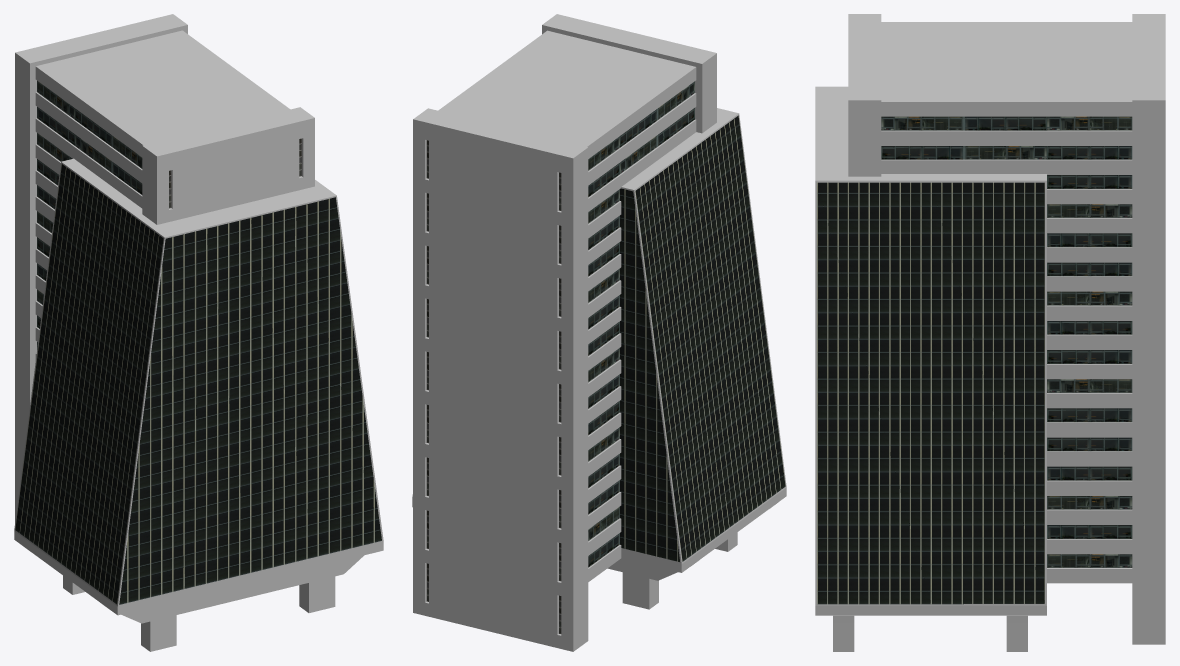
3 views of the same model, side by side, from view 1: azimuth 30°, elevation 25°; view 2: azimuth 150°, elevation 25°; view 3: azimuth 270°, elevation 25° (orthographic). The views are drawn at different scales.
Visible parts, largest first — view 1: BC-013; view 2: BC-013; view 3: BC-013.
Boxes of the visible parts, bbox=[...] form: BC-013: bbox=[14, 14, 383, 651]; BC-013: bbox=[412, 14, 786, 651]; BC-013: bbox=[815, 14, 1165, 651].
Size of what is drawn, in the model's own units: 32 by 55.99 by 32.65.
